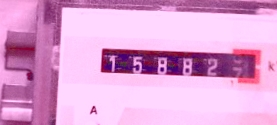1: (107, 53, 116, 71)
2: (205, 56, 218, 76)
5: (129, 54, 143, 73)
7: (229, 64, 242, 76)
8: (179, 54, 193, 76), (155, 54, 168, 75)
screen: (94, 39, 265, 87)
